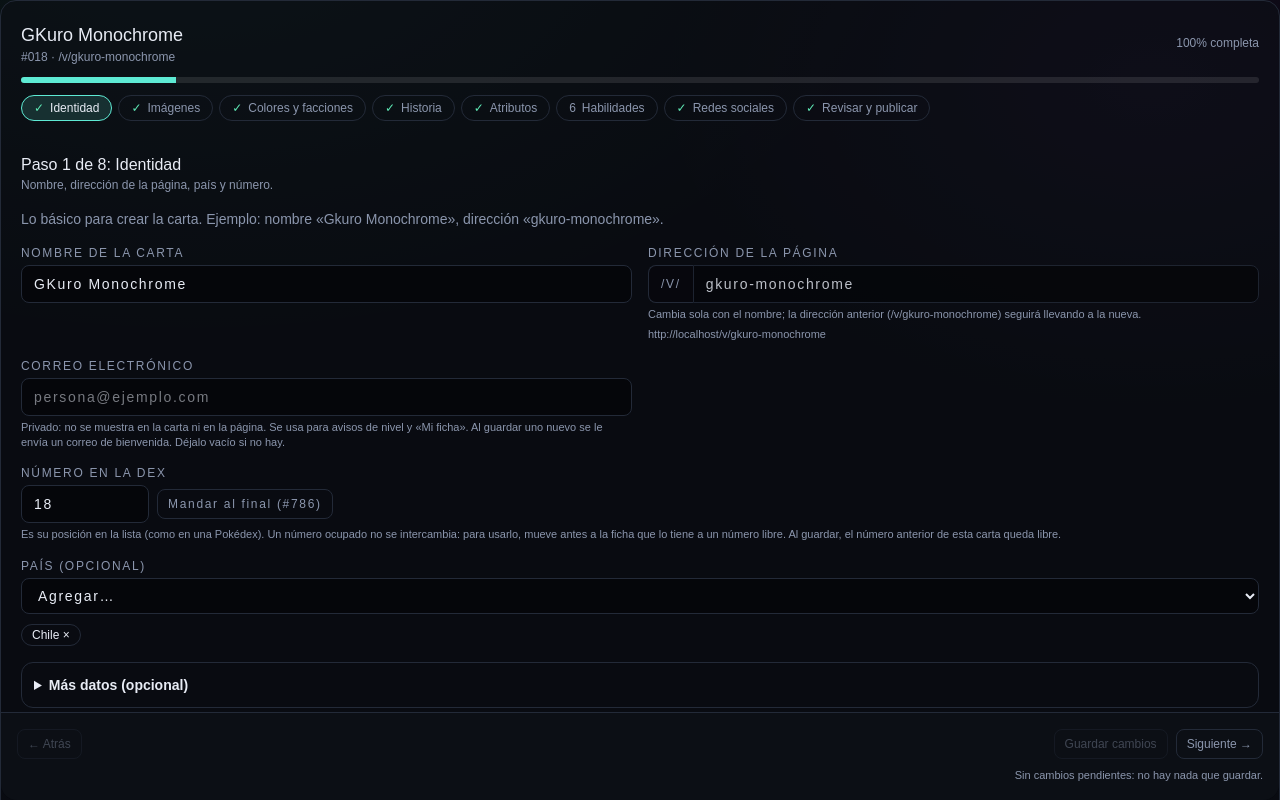
Test: Asistente de carta: edición › al escribir el correo aparece «Guardar cambio de correo»; guarda solo el correo y avisa de la bienvenida
The image size is (1280, 800).
Check: the button "Mandar al final (#786)" is shown, box x1=157 y1=490 x2=333 y2=520
Check: the button "Guardar cambio de correo" is not shown
In the field labelled "Correo electrónico": coordinates (326, 397) x1=21 y1=378 x2=632 y2=416, type " Ana@Ejemplo.com "
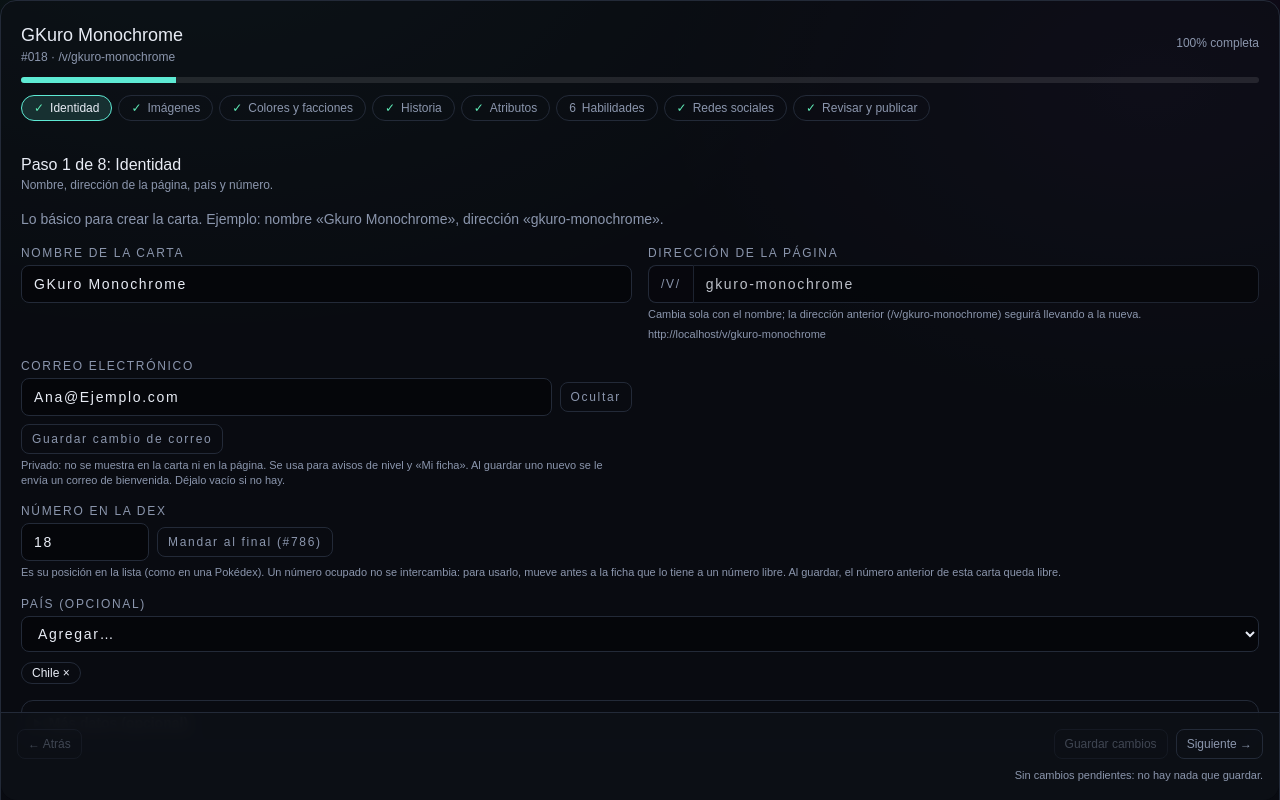
Click the button "Guardar cambio de correo": coordinates (122, 439) x1=21 y1=424 x2=223 y2=454
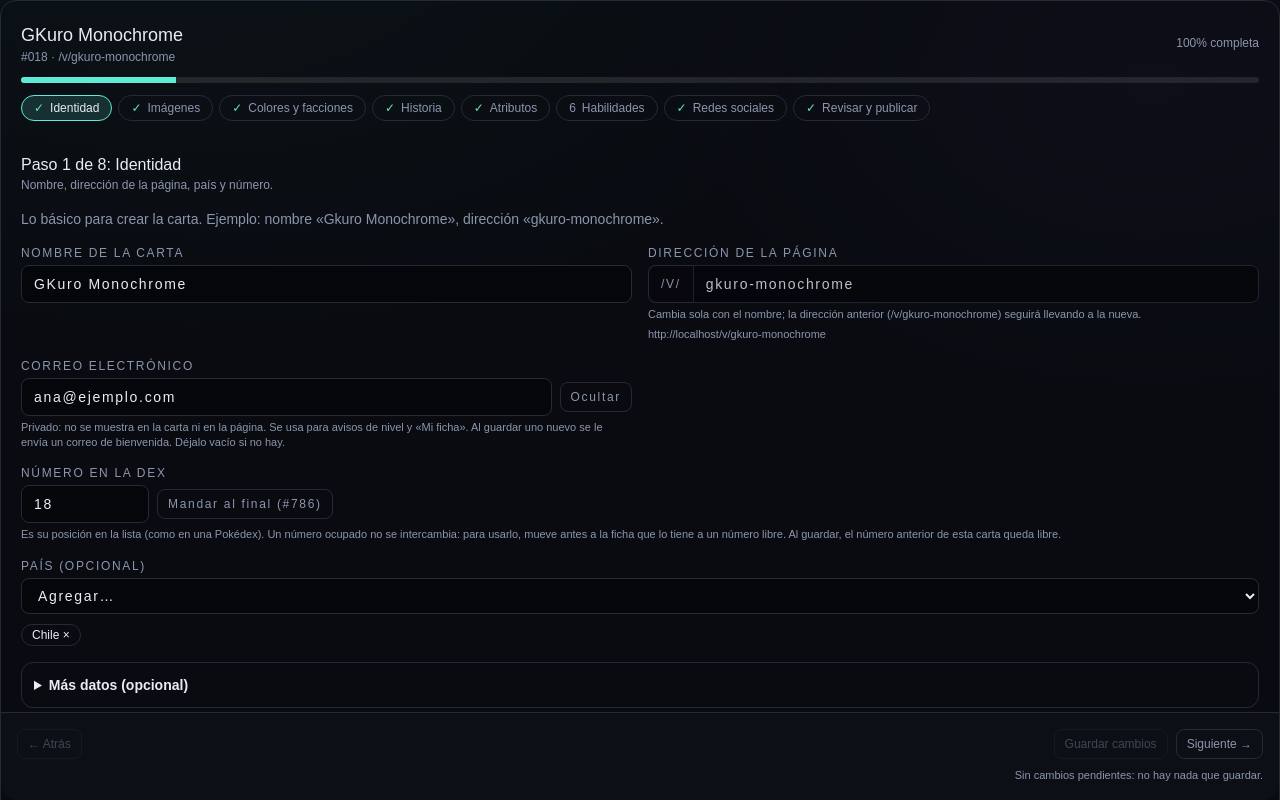
Check: the button "Guardar cambio de correo" is gone
